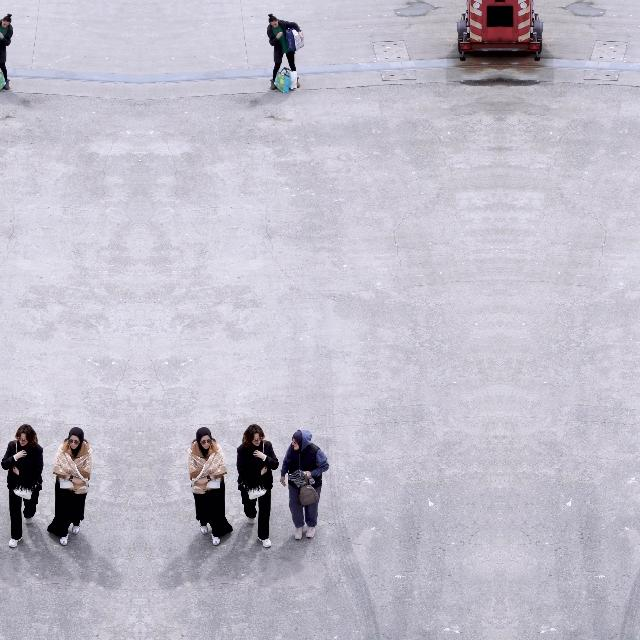person: (187, 426, 233, 546), (47, 426, 93, 546), (279, 430, 329, 540), (236, 424, 280, 548), (0, 424, 44, 548), (266, 14, 304, 90), (0, 13, 13, 90), (0, 429, 1, 540)
